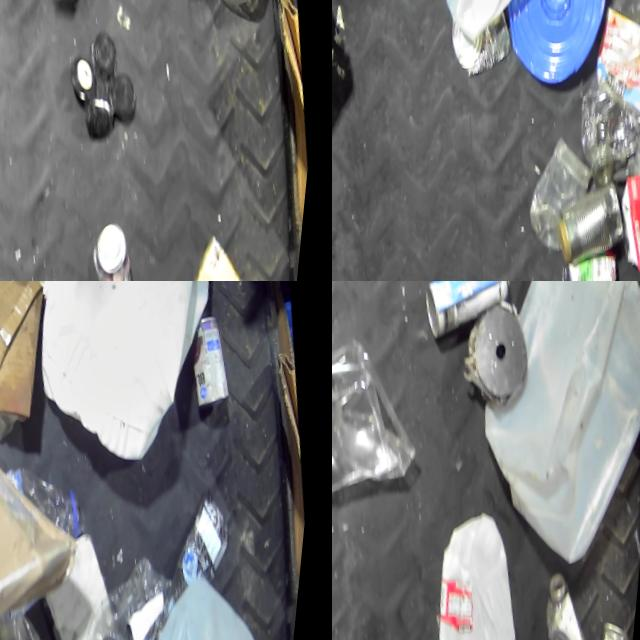can: (563, 182, 640, 265), (181, 305, 241, 407), (422, 281, 524, 339), (452, 8, 524, 78), (184, 231, 264, 281), (91, 219, 150, 281), (562, 255, 639, 281), (595, 619, 640, 640)
milk_jug: (451, 281, 640, 576), (11, 281, 242, 474), (425, 505, 545, 640), (115, 564, 305, 640), (419, 0, 559, 47)
plastic_bottle: (76, 558, 190, 640), (160, 498, 243, 600), (8, 456, 97, 546), (545, 569, 612, 640)
